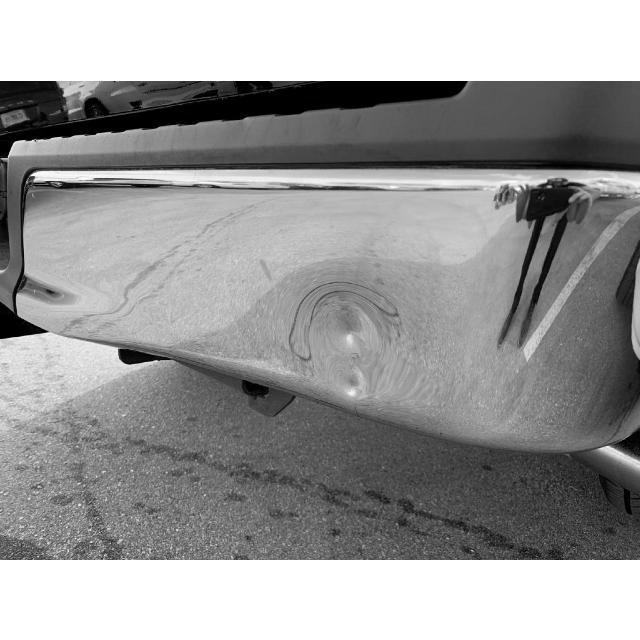rear-bumper-dent: (2, 127, 637, 438)
